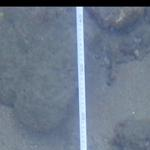dead: (1, 8, 148, 147)
